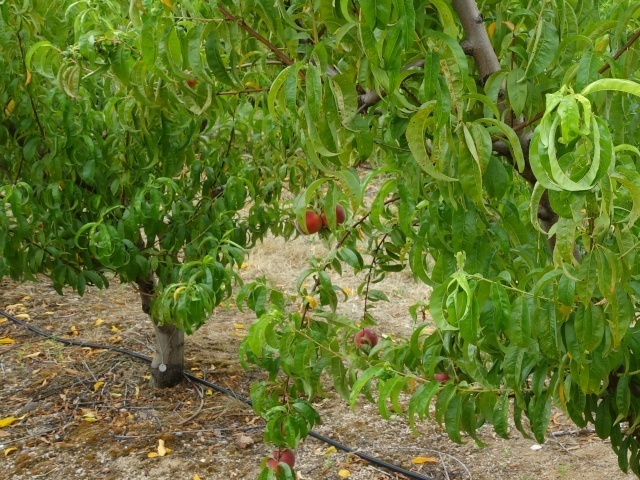peach: (291, 206, 324, 240), (264, 447, 298, 476), (351, 325, 382, 356), (316, 200, 348, 230), (430, 367, 450, 386)
